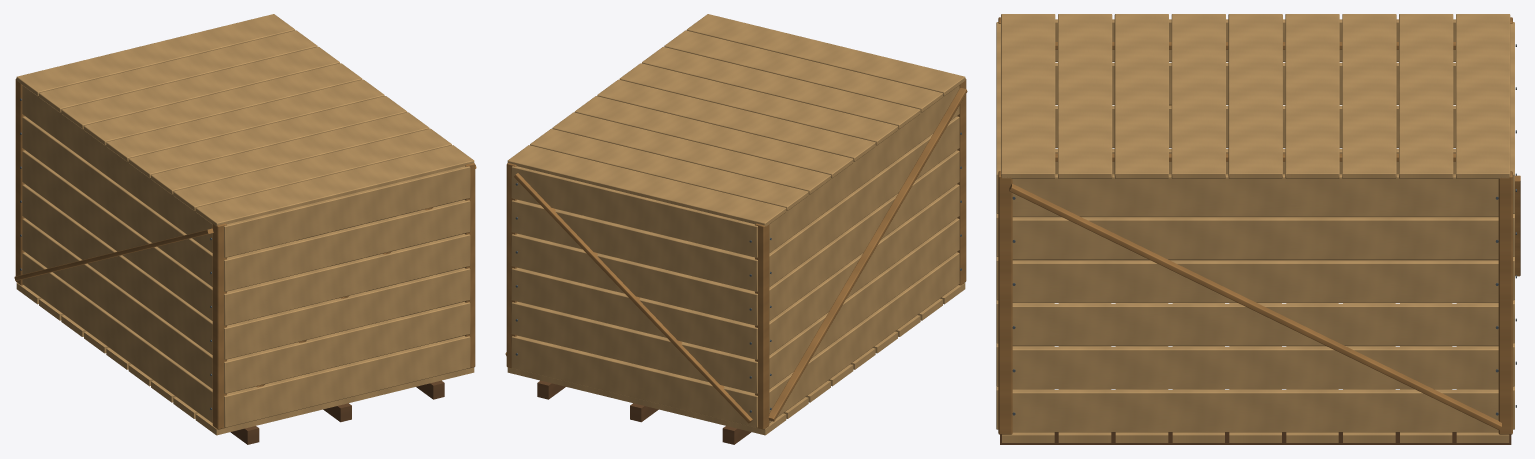
The model's file is DeliveryCrate.gltf.
3 renders of one model, left to right at view 1: azimuth 30°, elevation 25°; view 2: azimuth 150°, elevation 25°; view 3: azimuth 270°, elevation 25°, orthographic. The views are drawn at different scales.
Visible parts, largest first — view 1: DeliveryCrate__Lid, DeliveryCrate__BackPanel, DeliveryCrate__Body; view 2: DeliveryCrate__Lid, DeliveryCrate__FrontPanel, DeliveryCrate__Body; view 3: DeliveryCrate__Body, DeliveryCrate__Lid, DeliveryCrate__FrontPanel, DeliveryCrate__BackPanel.
Boxes of the visible parts, box(x1,y1,x2,y2) form: DeliveryCrate__Lid: box(16, 14, 474, 226); DeliveryCrate__BackPanel: box(224, 166, 470, 427); DeliveryCrate__Body: box(14, 78, 476, 444); DeliveryCrate__Lid: box(507, 14, 965, 226); DeliveryCrate__FrontPanel: box(511, 166, 757, 427); DeliveryCrate__Body: box(505, 78, 967, 444); DeliveryCrate__Body: box(998, 17, 1512, 444); DeliveryCrate__Lid: box(1001, 14, 1510, 178); DeliveryCrate__FrontPanel: box(1510, 22, 1520, 429); DeliveryCrate__BackPanel: box(996, 22, 1000, 429).
Size of the model in its own units: 1.51 by 1.23 by 2.02.
1 material, 1 textured.
